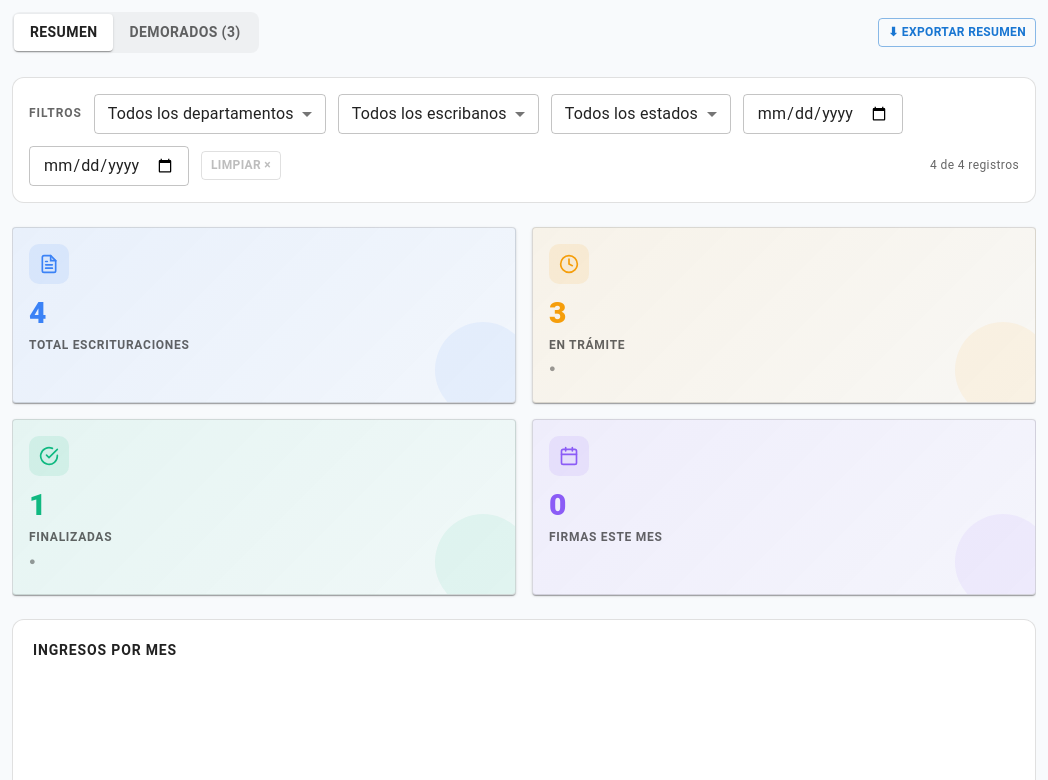
Test: DashboardTab demorados (P5b) › renders the demorados cases as a DataGrid with the canonical columns
What coordinates should you click on to do the following:
click the button "Demorados (3)"
I would click on:
 (185, 32)
Its box is [114, 14, 257, 50].
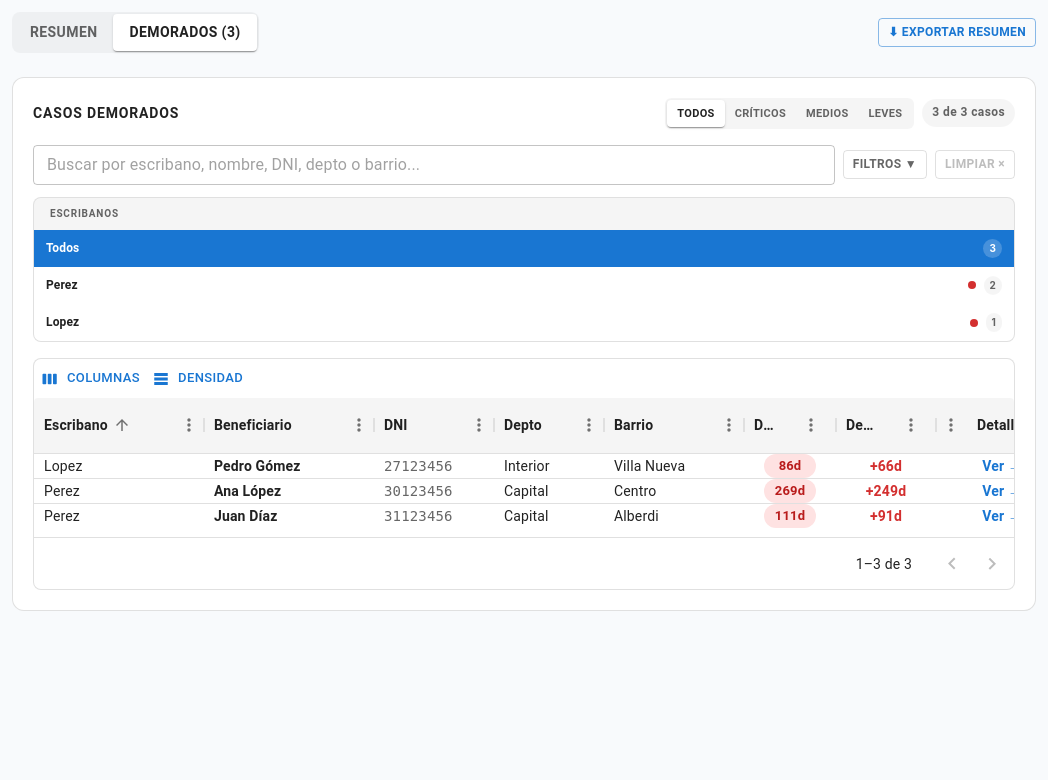
Expected: the table is shown, [34, 359, 1014, 589]
Expected: the text "Casos Demorados" is shown, [33, 103, 179, 124]
Expected: the text "3 de 3 casos" is shown, [922, 99, 1015, 127]
